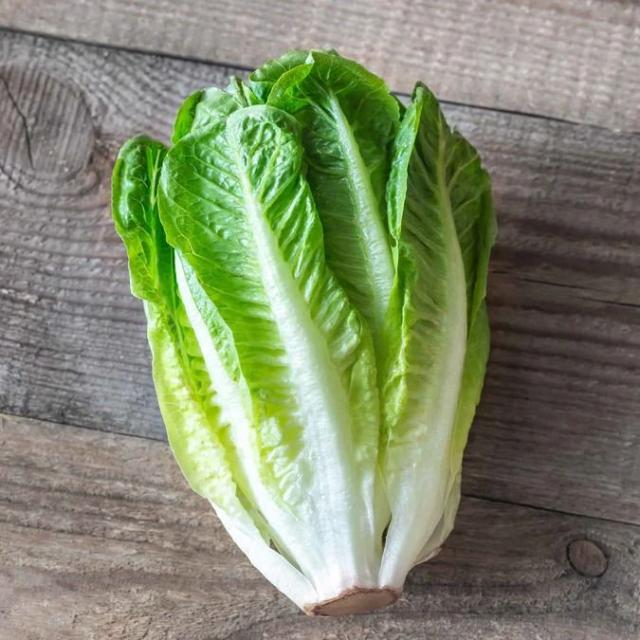lettuce: (113, 52, 494, 614)
